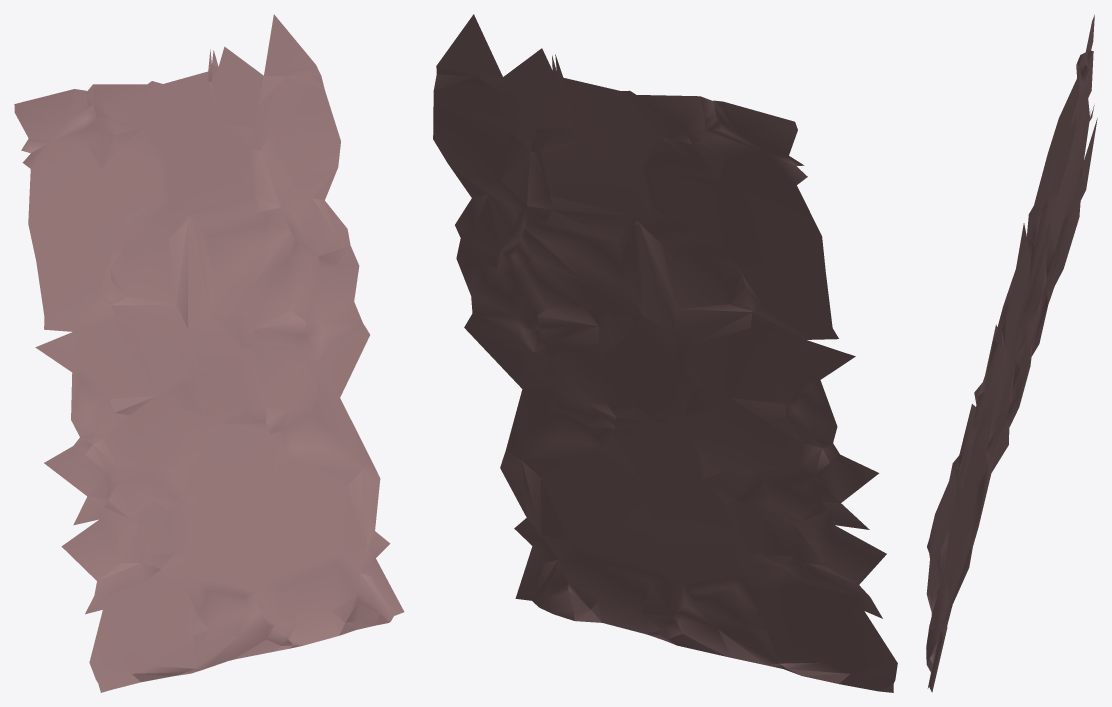
The model's file is plateau.fbx_Rock_Plateau_011LODs.fbx.
3 renders of one model, left to right at view 1: azimuth 30°, elevation 25°; view 2: azimuth 150°, elevation 25°; view 3: azimuth 270°, elevation 25°, orthographic. The views are drawn at different scales.
Parts seen in each view (by area): view 1: Rock Plateau.011_LOD0; view 2: Rock Plateau.011_LOD0; view 3: Rock Plateau.011_LOD0.
Boxes of the visible parts, x1=… form: Rock Plateau.011_LOD0: x1=14, y1=14, x2=404, y2=692; Rock Plateau.011_LOD0: x1=433, y1=14, x2=897, y2=692; Rock Plateau.011_LOD0: x1=926, y1=14, x2=1097, y2=692.
Size of what is drawn, in the model's own units: 3779 by 6035 by 1678.
